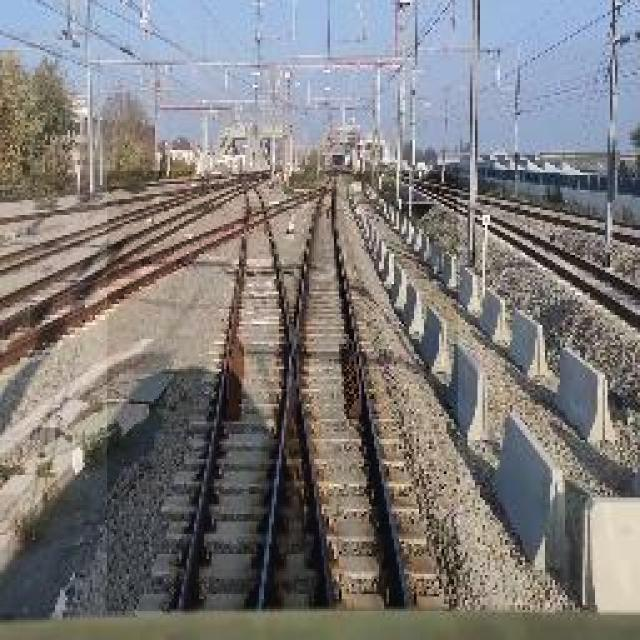rail: (109, 173, 459, 612)
